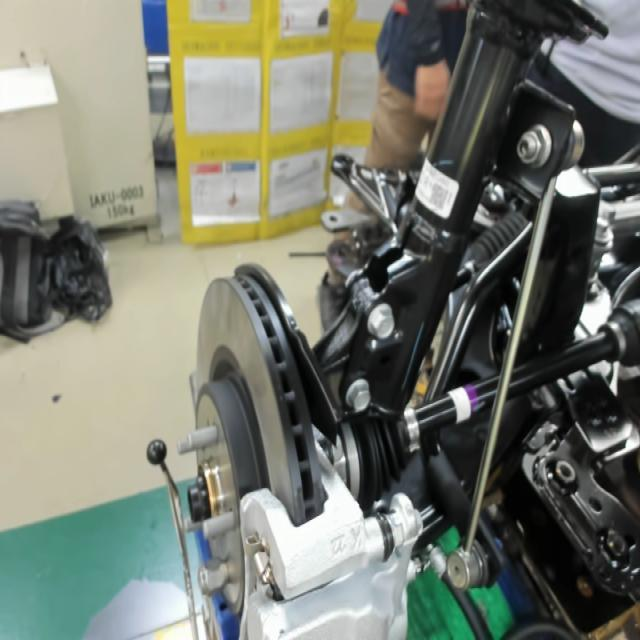Absorber RH-22: (417, 167, 448, 211)
Disc-HT: (184, 334, 274, 518)
Drive Shaft-UG: (442, 381, 483, 426)
